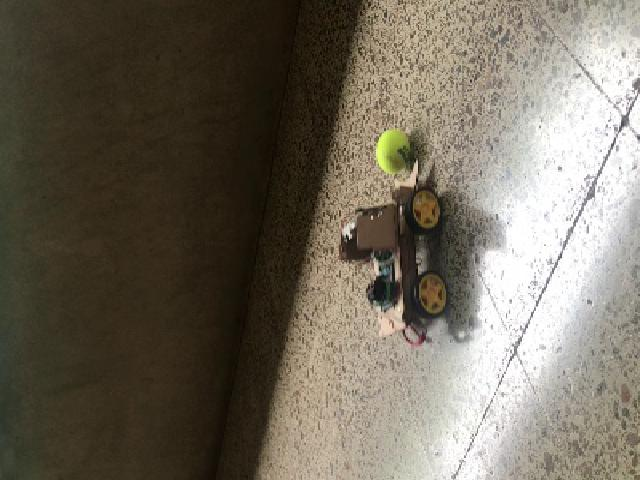Ball: (374, 127, 411, 173)
Robot: (338, 161, 448, 335)
